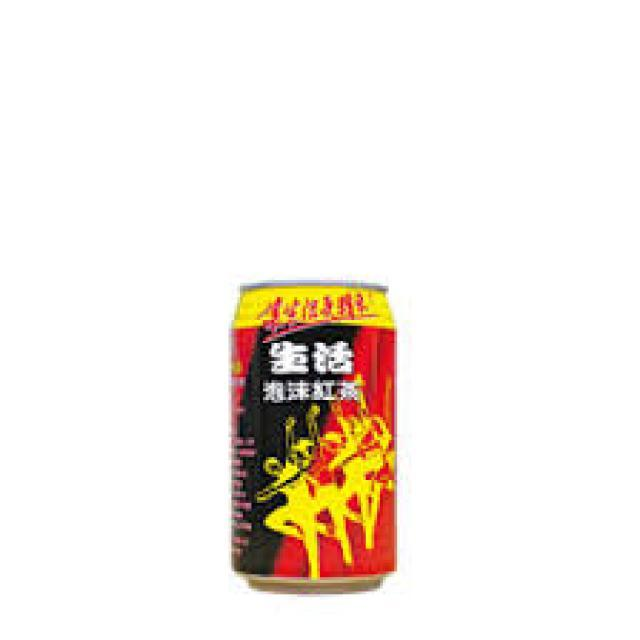recyclable: (227, 276, 398, 596)
